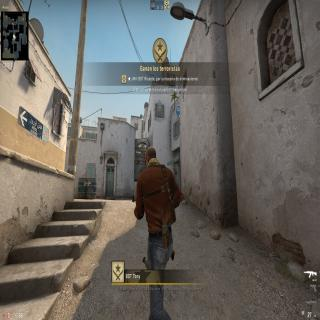T-Head: (144, 141, 158, 168)
